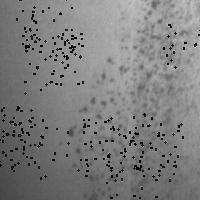pitted_surface: (67, 1, 189, 195), (22, 29, 81, 89), (83, 119, 143, 175), (37, 119, 94, 177), (105, 113, 164, 169), (124, 123, 182, 179), (24, 37, 82, 92), (16, 0, 74, 49), (103, 152, 160, 200), (0, 106, 34, 165), (0, 113, 34, 170), (163, 24, 200, 71)
